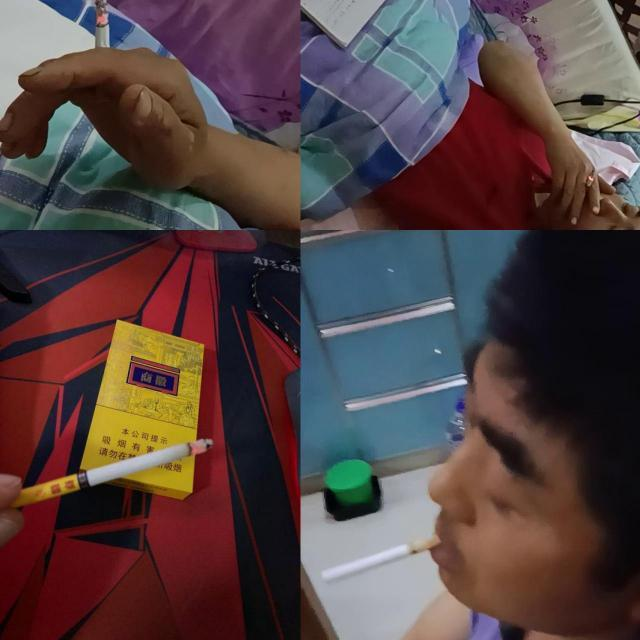smoke: (9, 438, 214, 508), (322, 535, 442, 584), (94, 0, 111, 62), (584, 170, 596, 193)
